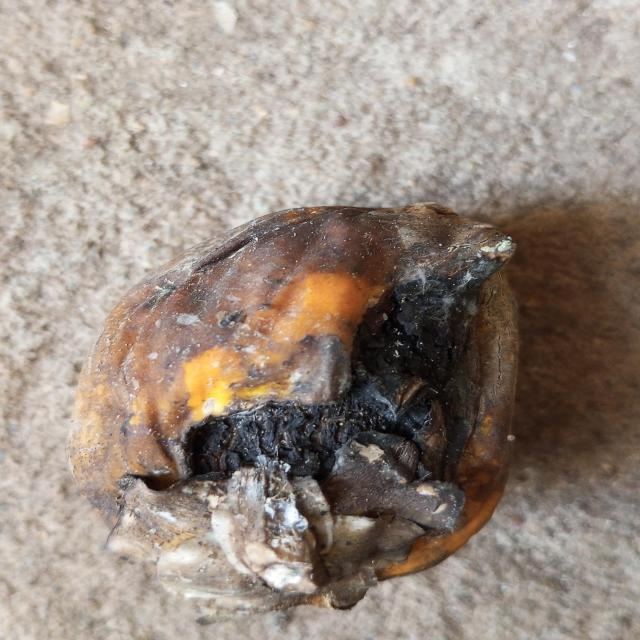damaged: (71, 203, 518, 619)
